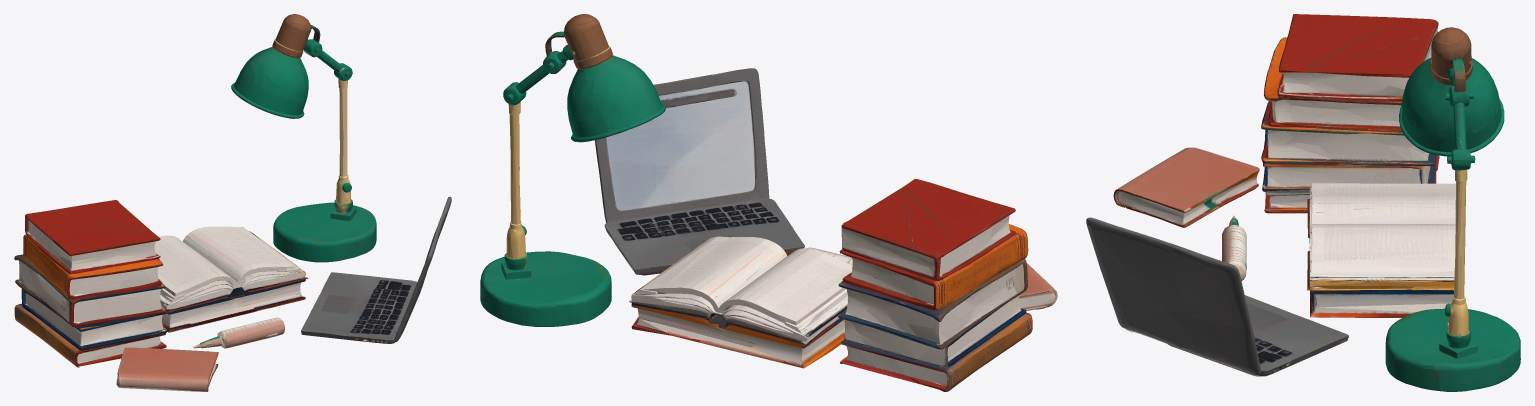
Rendered from ws_docs.glb.
The picture shows the model from 3 angles, left to right: view 1: azimuth 30°, elevation 25°; view 2: azimuth 150°, elevation 25°; view 3: azimuth 270°, elevation 25°; orthographic projection. The views are drawn at different scales.
Bounding box in the file's own units: 1.9 × 1.17 × 1.45.
1 material, 1 textured.
